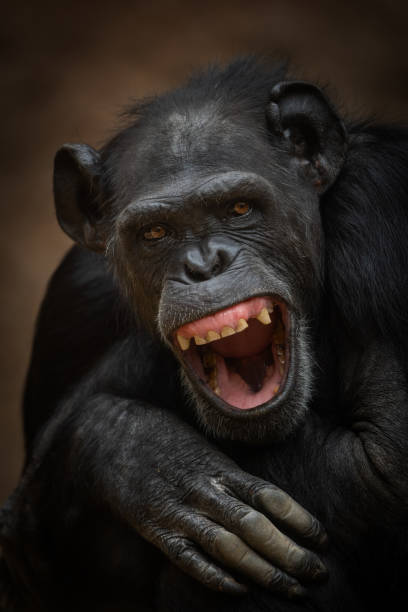chimpanzee: (18, 73, 390, 452)
